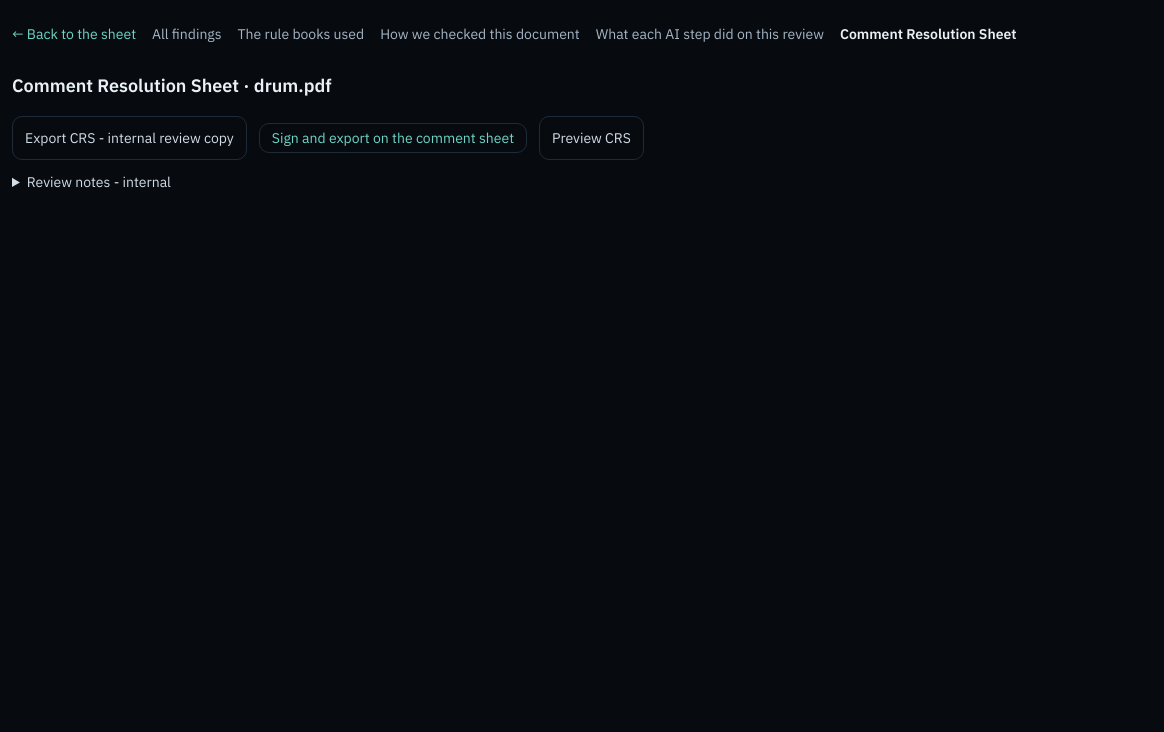
Test: the CRS preview › says when the code is still only the AI's recommendation (B10)
Click the button "Preview CRS".
click(592, 138)  # box [539, 116, 644, 160]
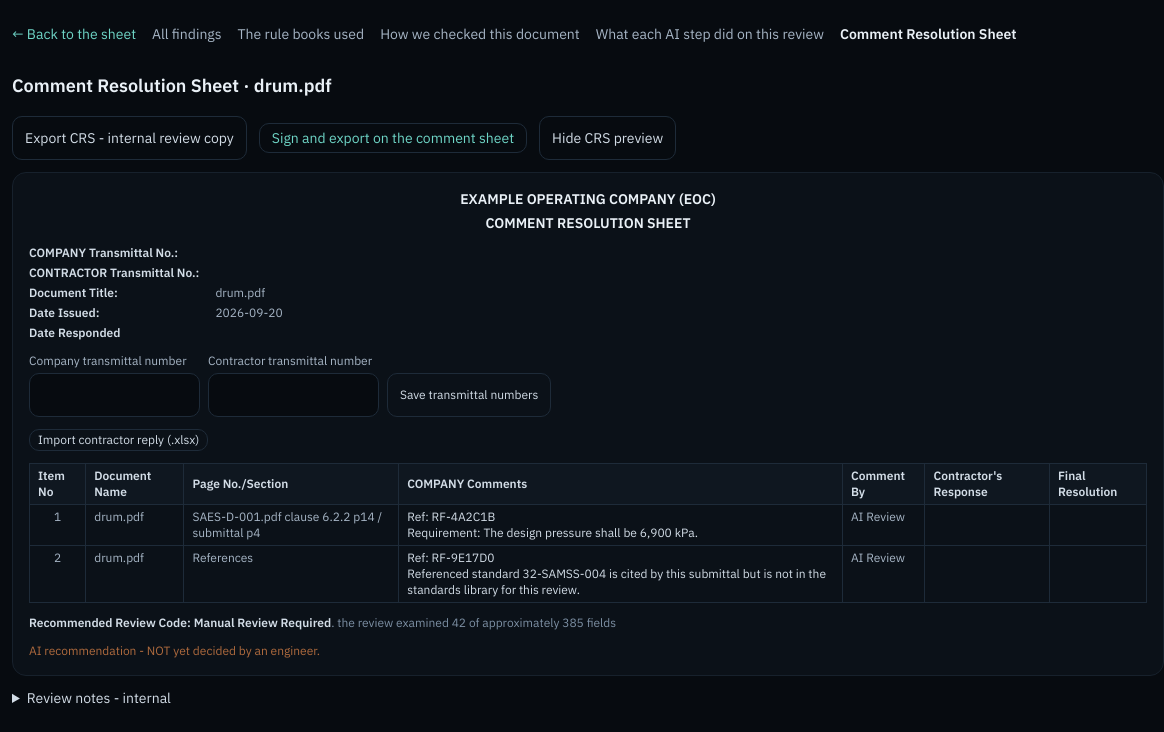
Expected: the text with test id "crs-code-status" shows "NOT yet decided by an engineer", [29, 643, 320, 658]
